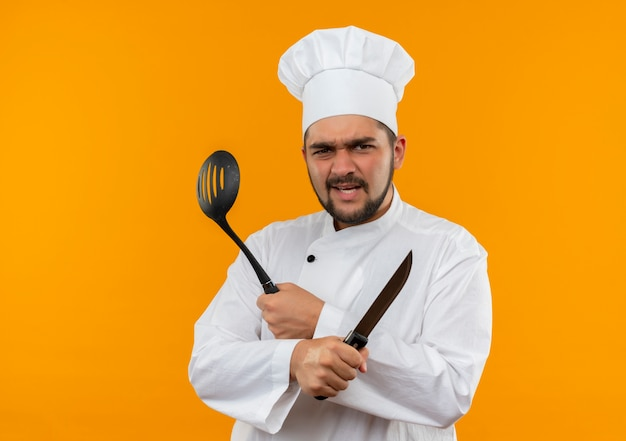knife: (343, 248, 413, 350)
